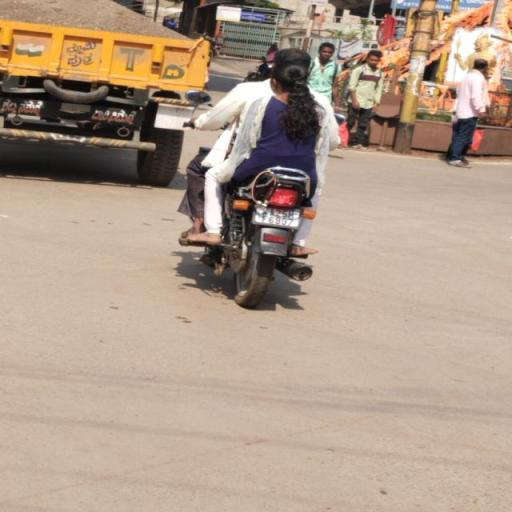bike: (178, 42, 362, 314)
numberplate: (254, 200, 306, 236)
withouthelmet: (271, 66, 312, 92), (279, 48, 310, 66)
